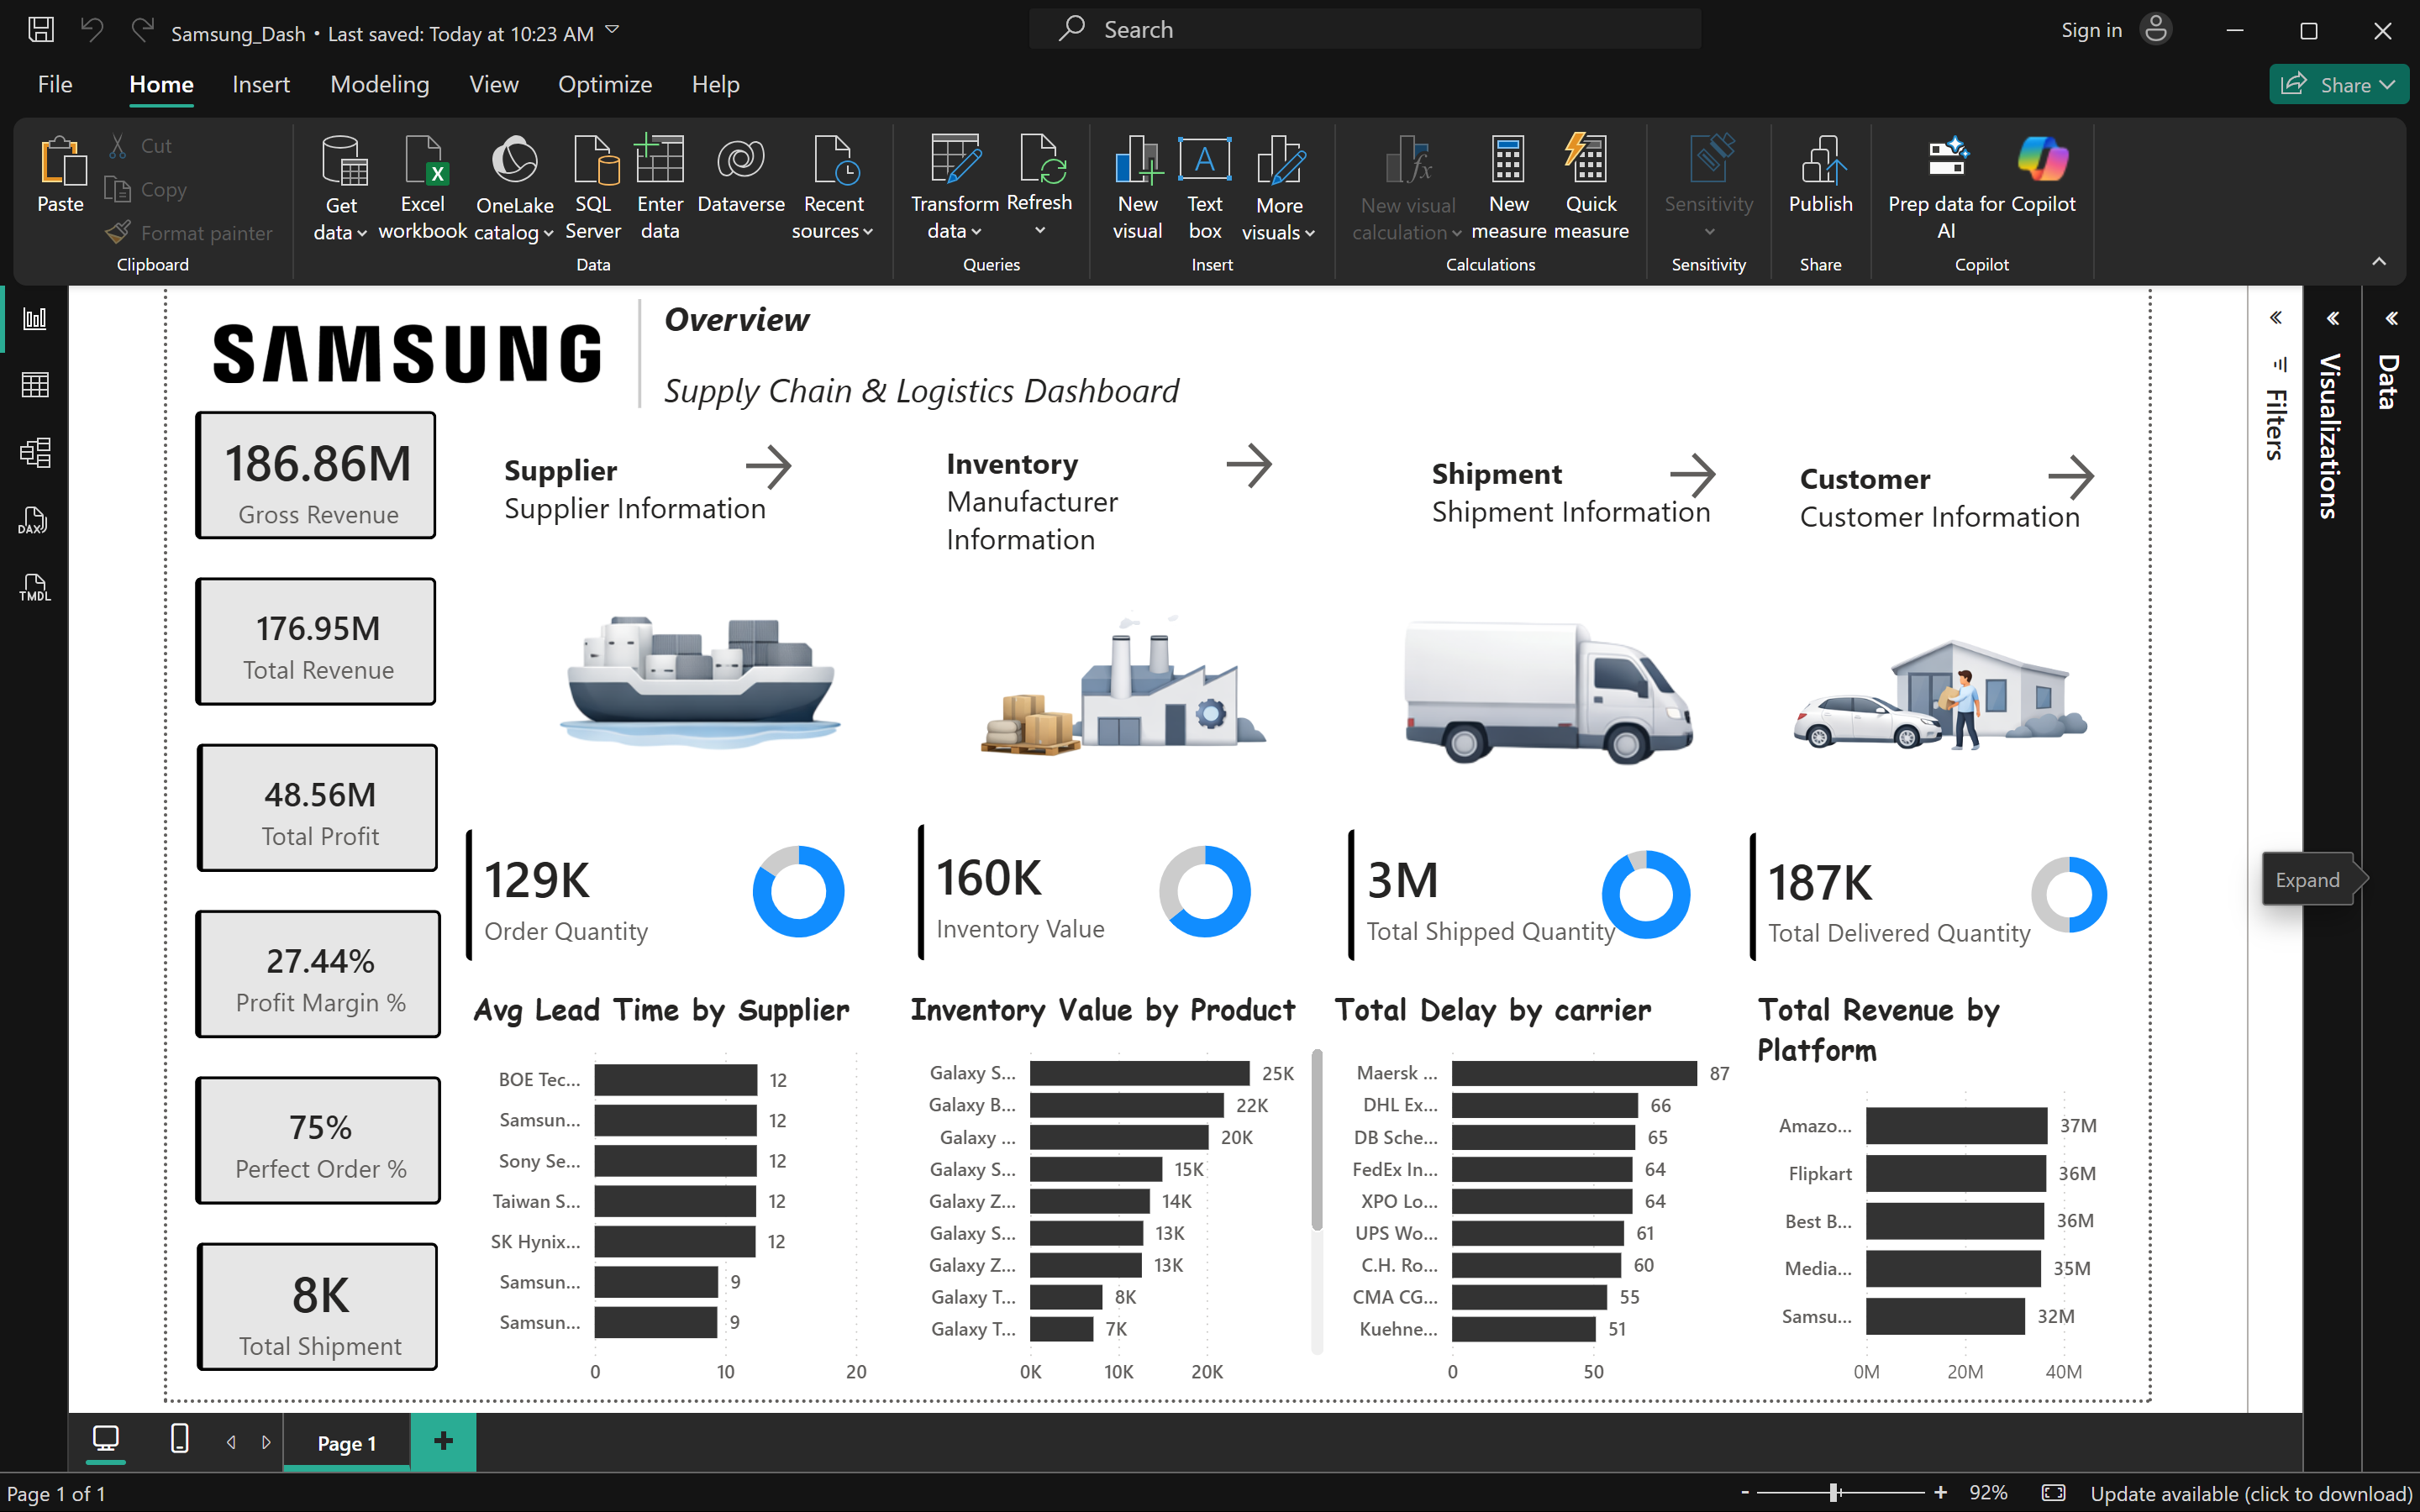

The dashboard page shown, as its layout file describes it:
{"tool":"powerbi","page":{"name":"Page 1","canvas":[1280,720],"ordinal":0},"visuals":[{"type":"shape","box":[210.4,96.9,257.5,234.6],"z":0},{"type":"shape","box":[475.5,96.9,270.3,234.6],"z":1000},{"type":"shape","box":[752.2,96.9,271.6,235.9],"z":2000},{"type":"shape","box":[1030.1,96.9,241,239.7],"z":3000},{"type":"image","box":[233.3,165.7,212.9,160.6],"z":4000},{"type":"image","box":[504.9,181,212.9,145.3],"z":5000},{"type":"image","box":[781.5,184.9,215.5,141.5],"z":6000},{"type":"image","box":[1042.9,197.6,216.7,128.8],"z":7000},{"type":"actionButton","box":[1210.2,104.4,55.1,39.8],"z":8000},{"type":"actionButton","box":[965.1,103.3,52.3,39.5],"z":9000},{"type":"actionButton","box":[678.2,96.9,51,39.5],"z":10000},{"type":"actionButton","box":[367.8,98.2,56.1,39.5],"z":11000},{"type":"textbox","box":[212.9,100.7,211.6,76.5],"z":12000},{"type":"textbox","box":[498.5,96.9,206.5,94.3],"z":13000},{"type":"textbox","box":[812.1,103.3,205.3,77.8],"z":14000},{"type":"textbox","box":[1049.9,106.5,215.5,88],"z":15000},{"type":"image","box":[10,0,278.7,87.3],"z":16000},{"type":"textbox","box":[316.2,1.5,413.4,87.3],"z":17000},{"type":"shape","box":[295.5,9.2,19.9,70.4],"z":18000},{"type":"cardVisual","fields":{"Data":["Measures_Table.Total Revenue"]},"box":[0,170.1,192.5,119.8],"z":19000},{"type":"cardVisual","fields":{"Data":["Measures_Table.Total Profit"]},"box":[1.3,277.7,192.5,119.8],"z":20000},{"type":"cardVisual","fields":{"Data":["Measures_Table.Profit Margin %"]},"box":[0,385,195.1,119.8],"z":21000},{"type":"cardVisual","fields":{"Data":["Measures_Table.Perfect_Order %"]},"box":[0,493.4,195.1,119.8],"z":22000},{"type":"cardVisual","fields":{"Data":["Sum(fact_sales.gross_revenue)"]},"box":[0,62.5,192.5,119.8],"z":23000},{"type":"cardVisual","fields":{"Data":["Measures_Table.Total Shipment"]},"box":[1.3,600.2,192.5,119.8],"z":24000},{"type":"cardVisual","fields":{"Data":["Measures_Table.Total Delivered Qty"]},"box":[1005.9,336.6,275.4,117.3],"z":25000},{"type":"cardVisual","fields":{"Data":["Measures_Table.Total Shipment Quantity"]},"box":[745.8,334,267.7,119.8],"z":26000},{"type":"cardVisual","fields":{"Data":["Measures_Table.Inventory Value"]},"box":[467.9,331.5,276.7,122.4],"z":27000},{"type":"cardVisual","fields":{"Data":["Measures_Table.Order_Qty"]},"box":[175.9,334,299.6,119.8],"z":28000},{"type":"clusteredBarChart","title":"Avg Lead Time by Supplier","fields":{"Category":["dim_supplier.supplier_name"],"Y":["Measures_Table.Avg Lead Time"]},"box":[192.5,453.9,283,266.5],"z":29000},{"type":"clusteredBarChart","title":"Inventory Value by Product","fields":{"Category":["dim_product.product_name"],"Y":["Measures_Table.Inventory Value"]},"box":[475.5,453.9,276.7,266.5],"z":30000},{"type":"clusteredBarChart","fields":{"Y":["Measures_Table.Total Delay"],"Category":["fact_shipment.carrier"]},"box":[749.6,453.9,272.8,266.5],"z":31000},{"type":"clusteredBarChart","title":"Total Revenue by Platform","fields":{"Y":["Measures_Table.Total Revenue"],"Category":["dim_customer.customer_name"]},"box":[1022.5,453.9,248.6,266.5],"z":32000},{"type":"donutChart","fields":{"Y":["Measures_Table.Order_Qty","Measures_Table.Defect_Rate"]},"box":[358.2,349.3,99.4,84.1],"z":33000},{"type":"donutChart","fields":{"Y":["Measures_Table.Inventory Value","Measures_Table.Safety_Stock"]},"box":[614.5,349.3,112.2,84.1],"z":34000},{"type":"donutChart","fields":{"Y":["Measures_Table.Total Shipment","Measures_Table.Total Delay"]},"box":[914.1,353.1,82.9,81.6],"z":35000},{"type":"donutChart","fields":{"Y":["Measures_Table.Total Delivered Qty","Measures_Table.Total_Qty_Delay"]},"box":[1193.3,353.1,71.4,81.6],"z":36000}]}

Visuals, with their boxes on the page's 1280x720 design canvas (x1, y1, x2, y2). These are canvas units, not pixel positions in the 2420x1512 screenshot, which may show the page scaled, cropped or inside an application window:
shape: select_region(210, 97, 468, 332)
shape: select_region(476, 97, 746, 332)
shape: select_region(752, 97, 1024, 333)
shape: select_region(1030, 97, 1271, 337)
image: select_region(233, 166, 446, 326)
image: select_region(505, 181, 718, 326)
image: select_region(782, 185, 997, 326)
image: select_region(1043, 198, 1260, 326)
actionButton: select_region(1210, 104, 1265, 144)
actionButton: select_region(965, 103, 1017, 143)
actionButton: select_region(678, 97, 729, 136)
actionButton: select_region(368, 98, 424, 138)
textbox: select_region(213, 101, 424, 177)
textbox: select_region(498, 97, 705, 191)
textbox: select_region(812, 103, 1017, 181)
textbox: select_region(1050, 106, 1265, 194)
image: select_region(10, 0, 289, 87)
textbox: select_region(316, 2, 730, 89)
shape: select_region(296, 9, 315, 80)
cardVisual - Measures_Table.Total Revenue: select_region(0, 170, 192, 290)
cardVisual - Measures_Table.Total Profit: select_region(1, 278, 194, 398)
cardVisual - Measures_Table.Profit Margin %: select_region(0, 385, 195, 505)
cardVisual - Measures_Table.Perfect_Order %: select_region(0, 493, 195, 613)
cardVisual - Sum(fact_sales.gross_revenue): select_region(0, 62, 192, 182)
cardVisual - Measures_Table.Total Shipment: select_region(1, 600, 194, 720)
cardVisual - Measures_Table.Total Delivered Qty: select_region(1006, 337, 1281, 454)
cardVisual - Measures_Table.Total Shipment Quantity: select_region(746, 334, 1014, 454)
cardVisual - Measures_Table.Inventory Value: select_region(468, 332, 745, 454)
cardVisual - Measures_Table.Order_Qty: select_region(176, 334, 476, 454)
"Avg Lead Time by Supplier" clusteredBarChart: select_region(192, 454, 476, 720)
"Inventory Value by Product" clusteredBarChart: select_region(476, 454, 752, 720)
clusteredBarChart - Measures_Table.Total Delay x fact_shipment.carrier: select_region(750, 454, 1022, 720)
"Total Revenue by Platform" clusteredBarChart: select_region(1022, 454, 1271, 720)
donutChart - Measures_Table.Order_Qty x Measures_Table.Defect_Rate: select_region(358, 349, 458, 433)
donutChart - Measures_Table.Inventory Value x Measures_Table.Safety_Stock: select_region(614, 349, 727, 433)
donutChart - Measures_Table.Total Shipment x Measures_Table.Total Delay: select_region(914, 353, 997, 435)
donutChart - Measures_Table.Total Delivered Qty x Measures_Table.Total_Qty_Delay: select_region(1193, 353, 1265, 435)
